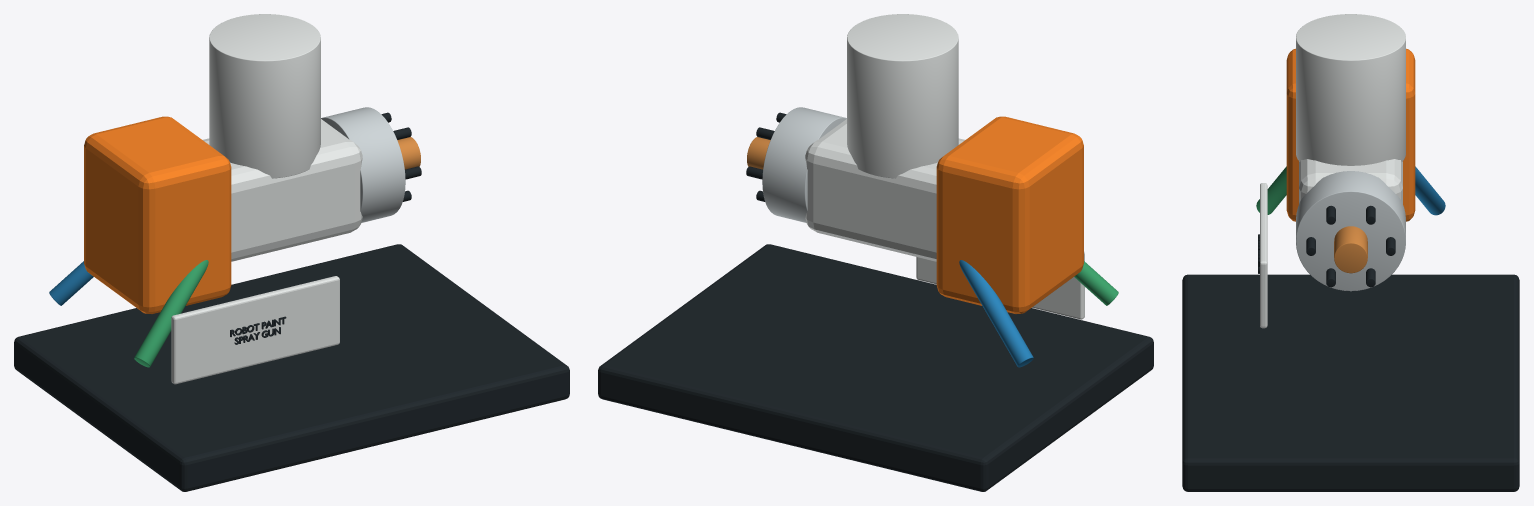
File: robotic_paint_spray_gun.glb
3 views of the same model, side by side, from view 1: azimuth 30°, elevation 25°; view 2: azimuth 150°, elevation 25°; view 3: azimuth 270°, elevation 25° (orthographic).
Visible parts, largest first — view 1: BASE, ROBOT_MOUNT, PAINT_CUP, SPRAY_GUN_BODY, NAMEPLATE, AIR_CAP, FLUID_HOSE, ATOMIZING_AIR, LABEL; view 2: BASE, ROBOT_MOUNT, PAINT_CUP, SPRAY_GUN_BODY, AIR_CAP, ATOMIZING_AIR, NAMEPLATE, FLUID_HOSE; view 3: BASE, PAINT_CUP, AIR_CAP, ROBOT_MOUNT, SPRAY_GUN_BODY, FLUID_NOZZLE, NAMEPLATE, ATOMIZING_AIR, FLUID_HOSE.
Part boxes in pixels (box(x1,y1,x2,y2)): BASE: box(14, 244, 569, 491); ROBOT_MOUNT: box(84, 116, 231, 313); PAINT_CUP: box(209, 14, 320, 178); SPRAY_GUN_BODY: box(203, 119, 362, 261); NAMEPLATE: box(171, 276, 339, 384); AIR_CAP: box(321, 107, 405, 222); FLUID_HOSE: box(134, 260, 208, 367); ATOMIZING_AIR: box(49, 261, 93, 305); LABEL: box(230, 316, 286, 344); BASE: box(598, 244, 1153, 491); ROBOT_MOUNT: box(936, 116, 1083, 313); PAINT_CUP: box(847, 14, 958, 178); SPRAY_GUN_BODY: box(805, 119, 964, 261); AIR_CAP: box(762, 107, 846, 222); ATOMIZING_AIR: box(959, 260, 1033, 367); NAMEPLATE: box(916, 251, 1084, 319); FLUID_HOSE: box(1074, 261, 1118, 305); BASE: box(1182, 274, 1519, 491); PAINT_CUP: box(1296, 14, 1405, 165); AIR_CAP: box(1296, 171, 1405, 291); ROBOT_MOUNT: box(1286, 48, 1415, 221); SPRAY_GUN_BODY: box(1299, 159, 1402, 203); FLUID_NOZZLE: box(1334, 226, 1367, 273); NAMEPLATE: box(1260, 183, 1267, 328); ATOMIZING_AIR: box(1415, 166, 1445, 215); FLUID_HOSE: box(1256, 166, 1286, 214).
Size of the model in its own units: 1.47 by 1.26 by 1.1.
